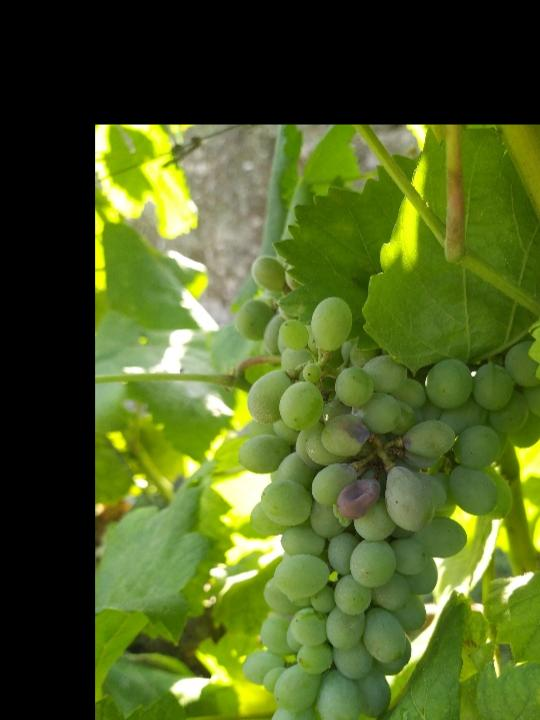grape: (237, 260, 540, 720)
